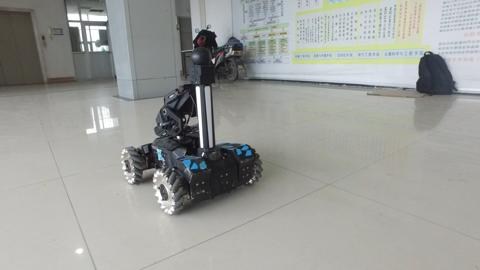bag: (407, 47, 463, 102)
chariot: (107, 42, 273, 221)
